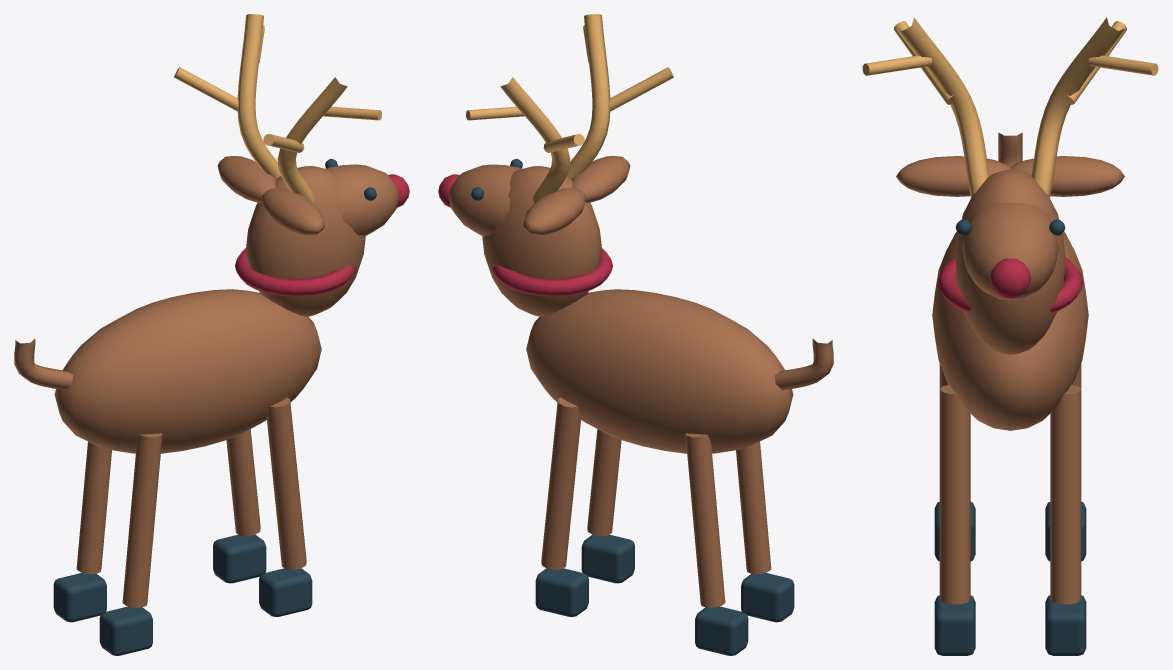
File: storybook-christmas-market-woodland-reindeer-0ae9856e__19734.glb
The picture shows the model from 3 angles, left to right: view 1: azimuth 30°, elevation 25°; view 2: azimuth 150°, elevation 25°; view 3: azimuth 270°, elevation 25°; orthographic projection. The views are drawn at different scales.
Visible parts, largest first — view 1: woodland-reindeer; view 2: woodland-reindeer; view 3: woodland-reindeer.
Part boxes in pixels (left/top/right/bottom): woodland-reindeer: left=14, top=14, right=409, bottom=655; woodland-reindeer: left=438, top=14, right=833, bottom=655; woodland-reindeer: left=862, top=17, right=1158, bottom=655.
Size of the model in its own units: 1.13 by 1.49 by 0.6149.
